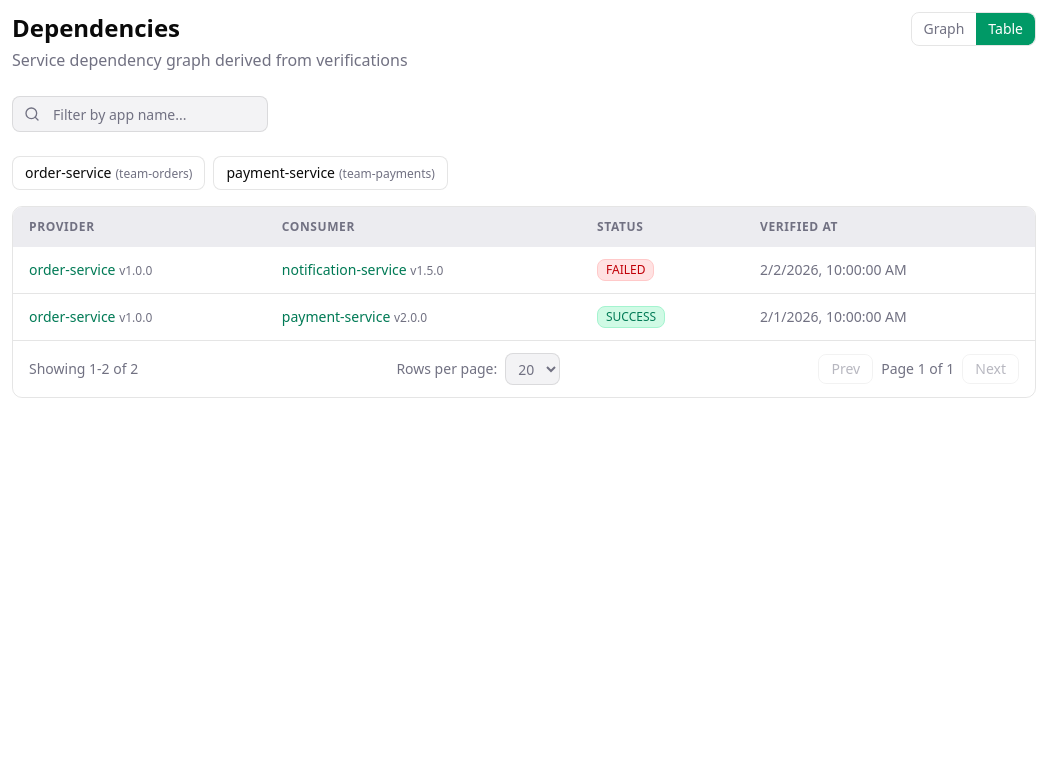
Test: GraphPage view toggle edge cases › should clear selectedApp when switching from table view to graph view
Click the button "order-service(team-orders)" at (109, 173), box [12,156,206,190]
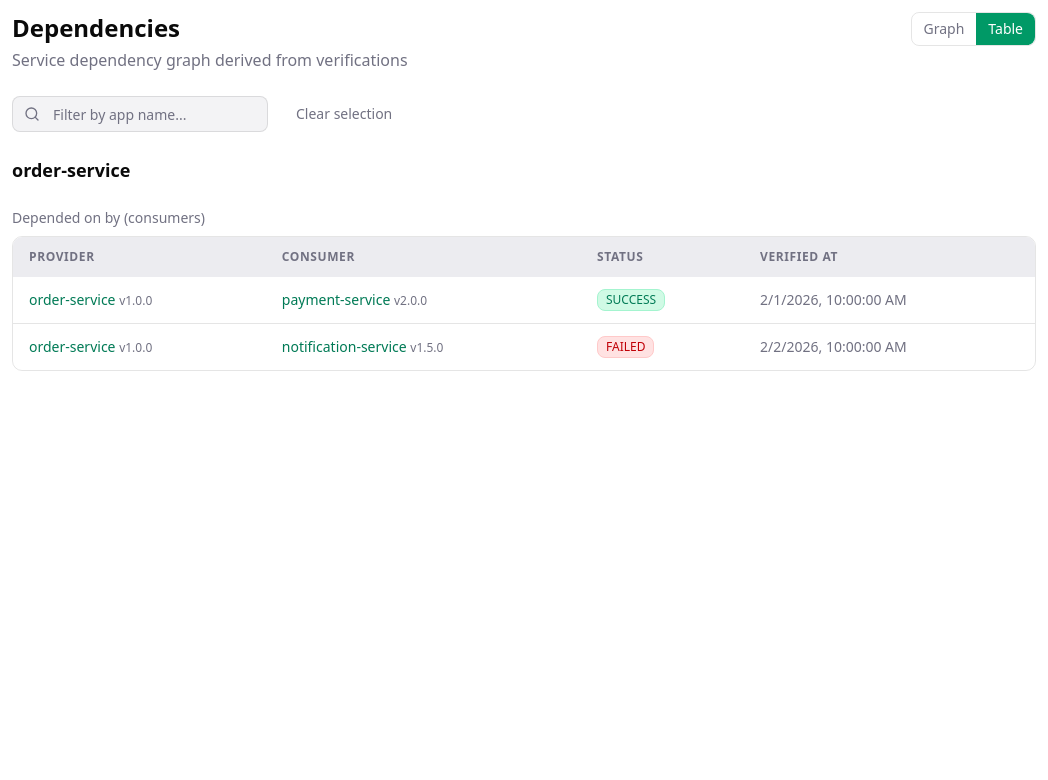
Now the heading "Depended on by (consumers)" is shown, box [12,208,205,227]
# Switch to graph view
Click the tab "Graph" at (944, 29), box [912,13,976,45]
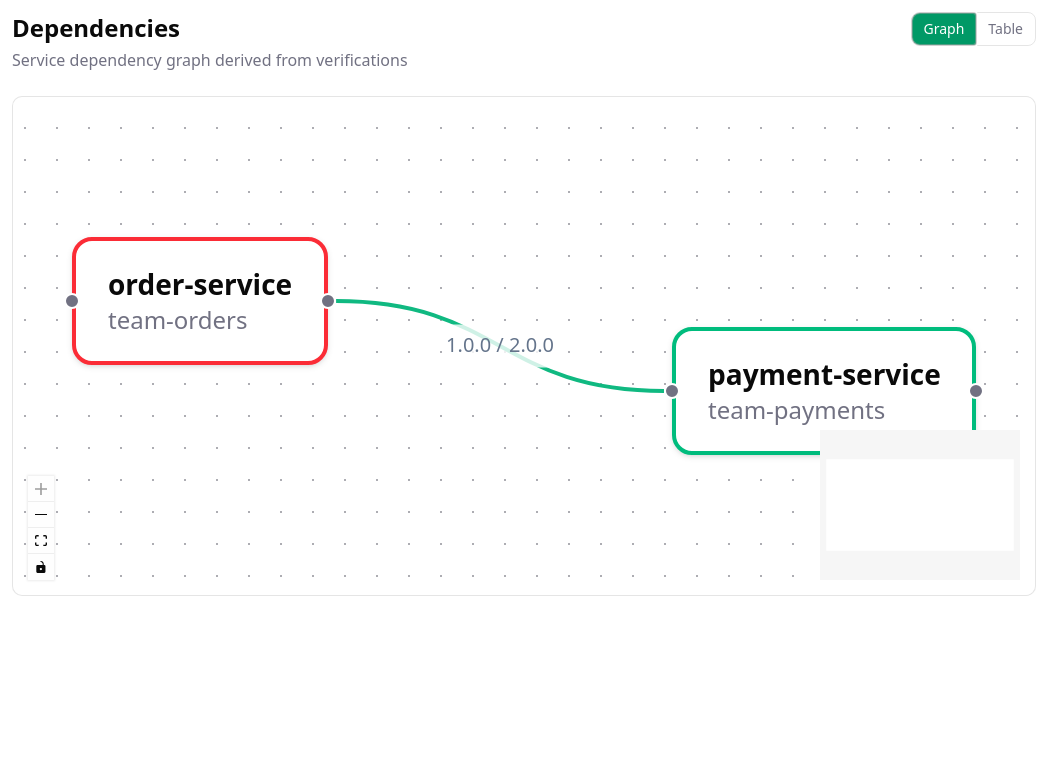
Now the element with test id "dependency-graph" is shown
Now the heading "Depended on by (consumers)" is gone
